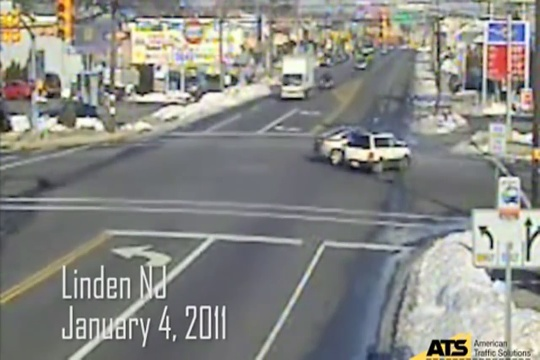car: (347, 137, 421, 174), (276, 52, 315, 104), (308, 124, 341, 160), (313, 68, 342, 90), (346, 54, 377, 71)
